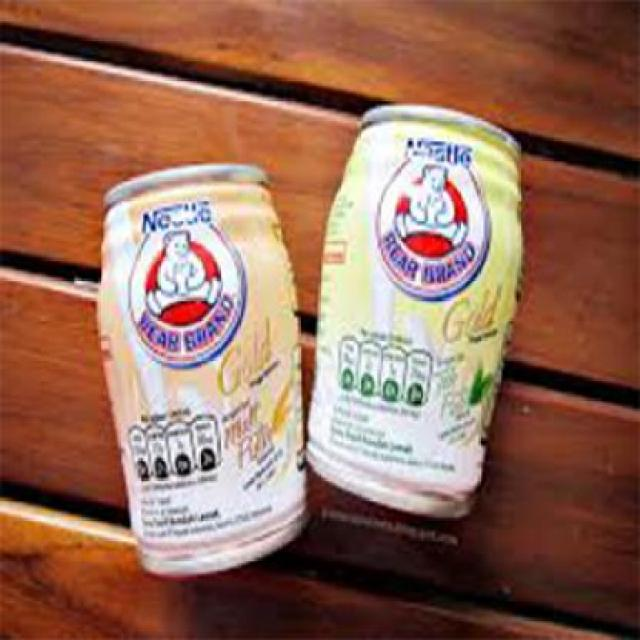Metal: (93, 100, 524, 577)
